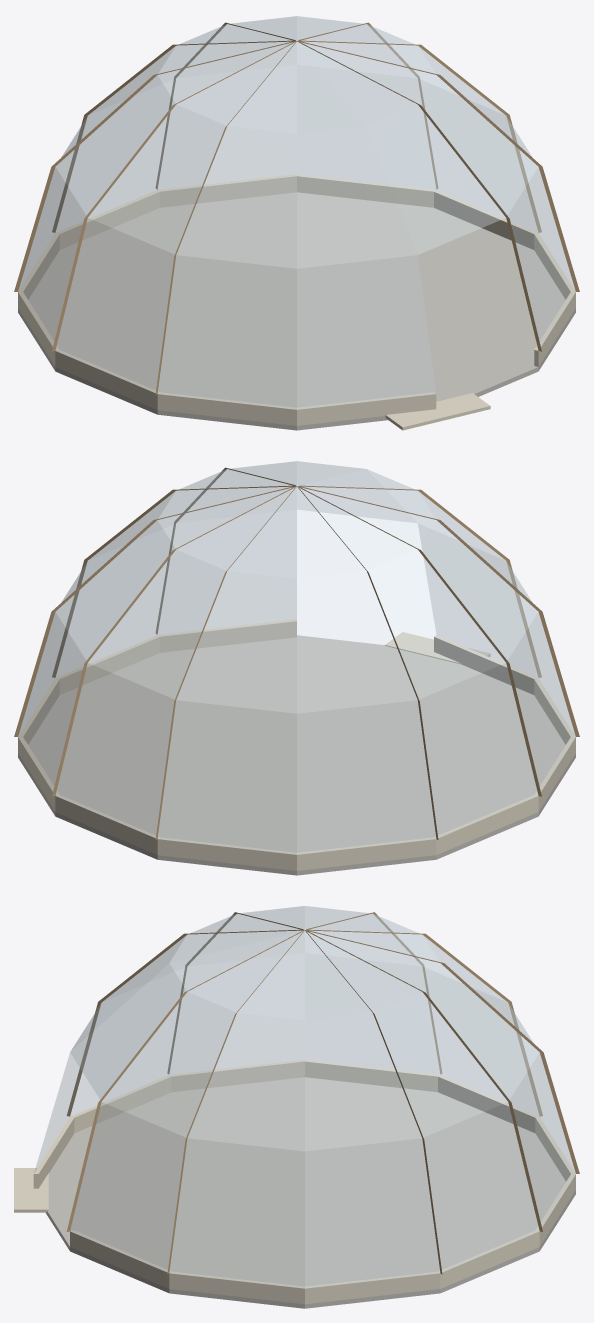
File: tropical-dome.glb
The picture shows the model from 3 angles, top to bottom: view 1: azimuth 30°, elevation 25°; view 2: azimuth 150°, elevation 25°; view 3: azimuth 270°, elevation 25°; orthographic projection. The views are drawn at different scales.
Visible parts, largest first — view 1: glass, concrete, stone, timber; view 2: glass, concrete, stone, timber; view 3: glass, concrete, stone, timber.
Part boxes in pixels (<box>): glass: <box>18,16,575,409</box>; concrete: <box>18,192,575,430</box>; stone: <box>18,174,575,430</box>; timber: <box>14,22,579,394</box>; glass: <box>18,461,575,854</box>; concrete: <box>18,635,575,875</box>; stone: <box>18,619,575,870</box>; timber: <box>14,467,579,839</box>; glass: <box>34,906,575,1288</box>; concrete: <box>46,1077,575,1308</box>; stone: <box>14,1059,575,1304</box>; timber: <box>66,912,579,1274</box>.
Bounding box in the file's own units: 11.16 × 5.9 × 11.48.
